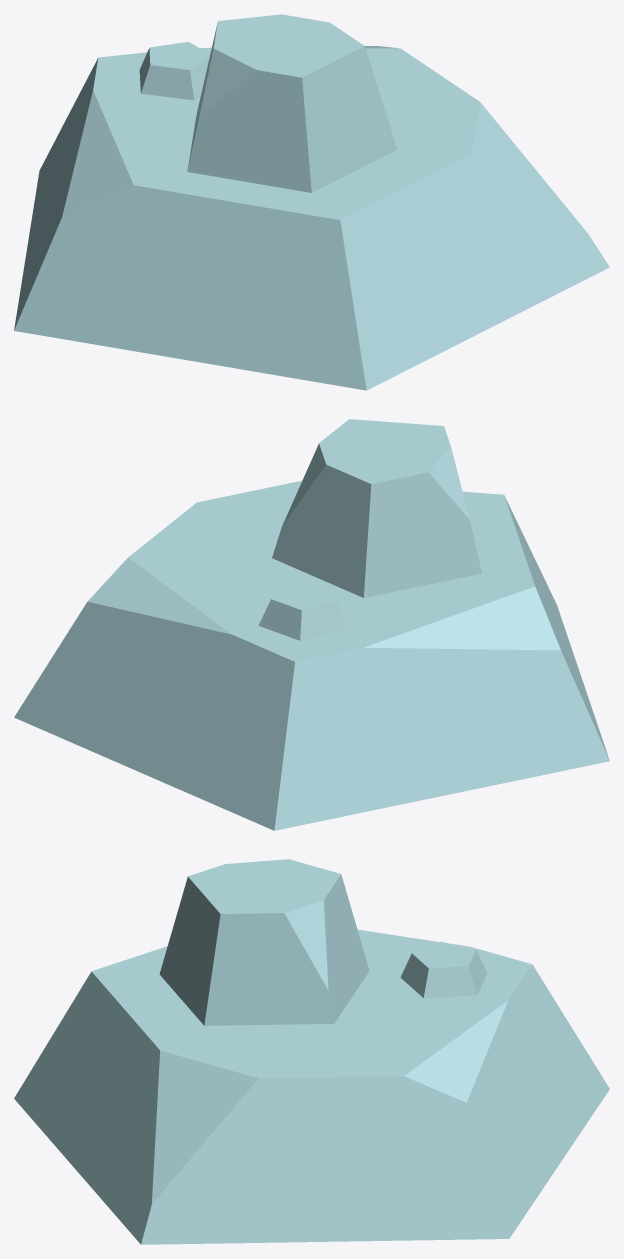
Rendered from stone_smallTopB.dae.
The picture shows the model from 3 angles, top to bottom: view 1: azimuth 30°, elevation 25°; view 2: azimuth 150°, elevation 25°; view 3: azimuth 270°, elevation 25°; orthographic projection. The views are drawn at different scales.
Parts seen in each view (by area): view 1: stone_smallTopB; view 2: stone_smallTopB; view 3: stone_smallTopB.
Part boxes in pixels (box(x1,y1,x2,y2)): stone_smallTopB: box(14, 14, 609, 390); stone_smallTopB: box(14, 419, 609, 830); stone_smallTopB: box(14, 859, 609, 1244).
Bounding box in the file's own units: 0.6221 × 0.28 × 0.6463.
